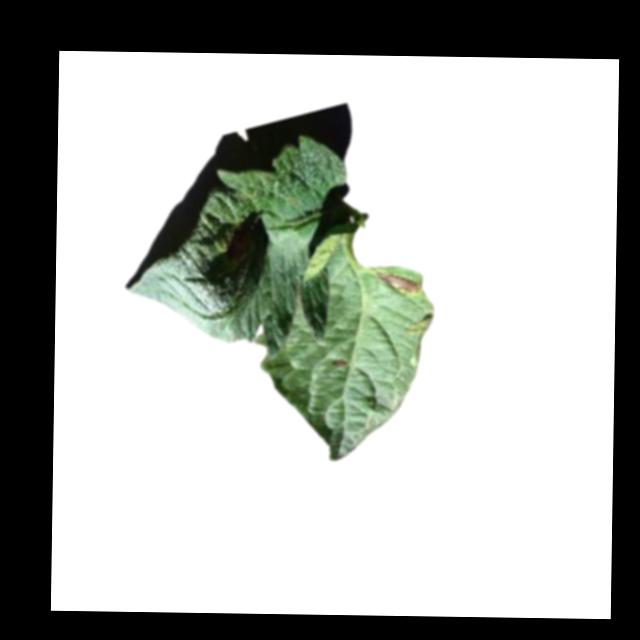Early_blight: (374, 275, 423, 299), (330, 357, 348, 368)
